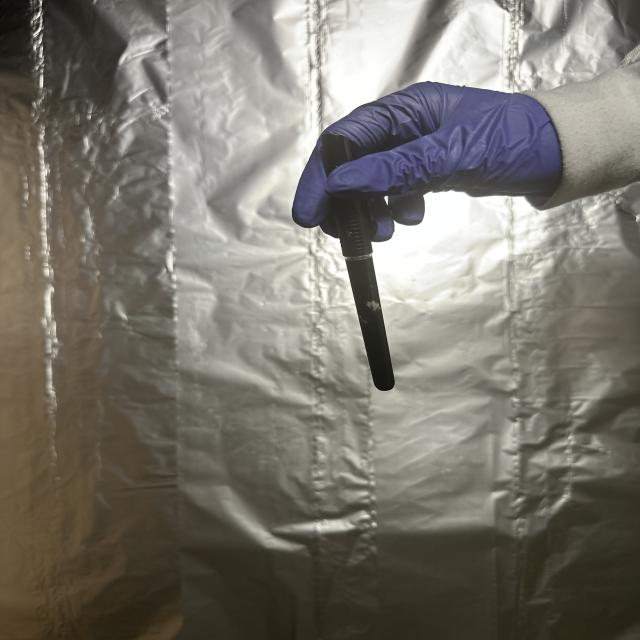gloves_contaminated: (292, 82, 563, 241)
